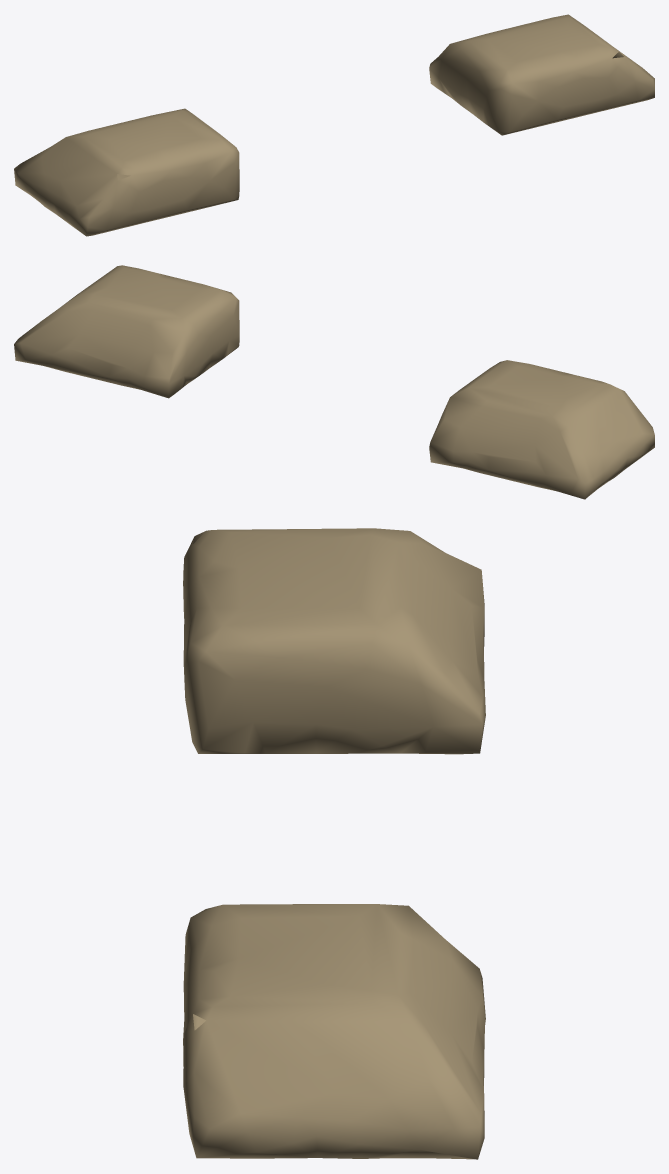
Rendered from Sofa.001.fbx.
3 renders of one model, top to bottom at view 1: azimuth 30°, elevation 25°; view 2: azimuth 150°, elevation 25°; view 3: azimuth 270°, elevation 25°, orthographic. The views are drawn at different scales.
Visible parts, largest first — view 1: Sofa.001; view 2: Sofa.001; view 3: Sofa.001.
Boxes of the visible parts, bbox=[...] form: Sofa.001: bbox=[14, 14, 654, 236]; Sofa.001: bbox=[14, 265, 654, 499]; Sofa.001: bbox=[183, 528, 485, 1159].
Size of the model in its own units: 367 by 36.92 by 83.6.
